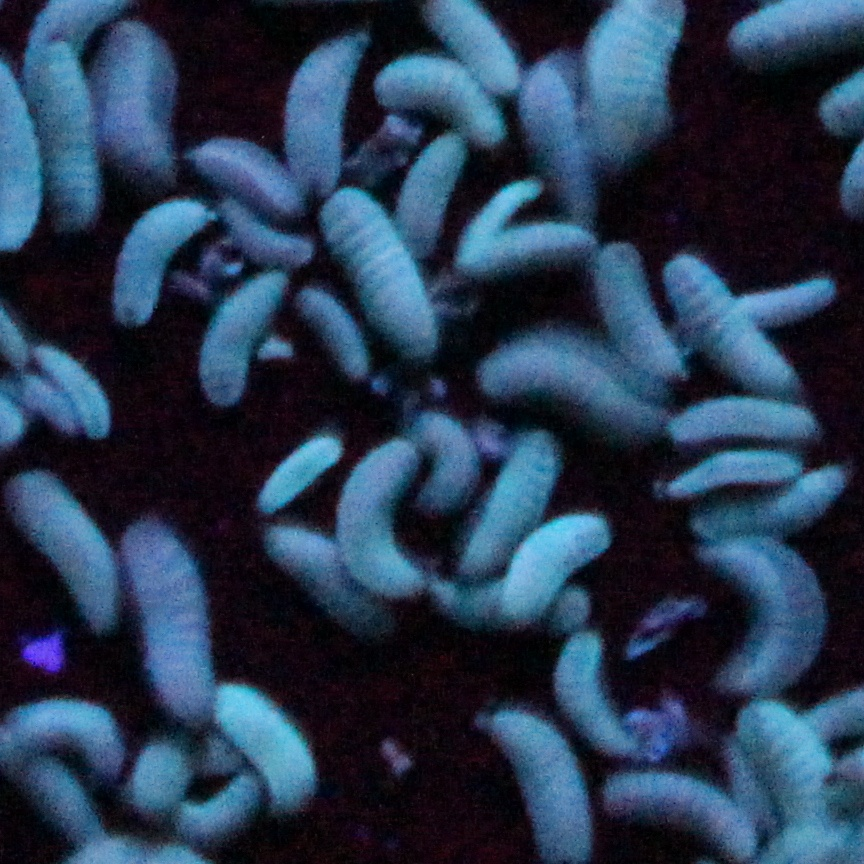larve: (324, 182, 444, 364), (658, 246, 803, 396), (706, 530, 826, 703), (119, 505, 212, 723), (474, 705, 599, 859), (10, 468, 119, 637), (201, 680, 333, 816), (506, 50, 608, 214), (451, 434, 567, 578), (483, 332, 651, 430), (281, 28, 374, 198), (594, 241, 690, 396), (333, 434, 421, 603), (24, 32, 99, 228), (603, 768, 758, 857), (494, 509, 619, 614), (551, 628, 646, 766), (374, 46, 508, 143), (101, 28, 178, 189), (110, 198, 208, 323), (194, 271, 287, 398), (249, 430, 358, 512), (392, 134, 478, 237), (656, 450, 806, 507), (660, 393, 824, 443), (206, 196, 319, 268), (37, 343, 117, 443), (299, 284, 376, 380), (412, 400, 476, 509), (196, 137, 299, 203), (256, 521, 349, 593), (460, 189, 546, 255), (128, 732, 187, 828), (728, 275, 849, 321), (733, 473, 851, 518), (483, 223, 594, 262)
